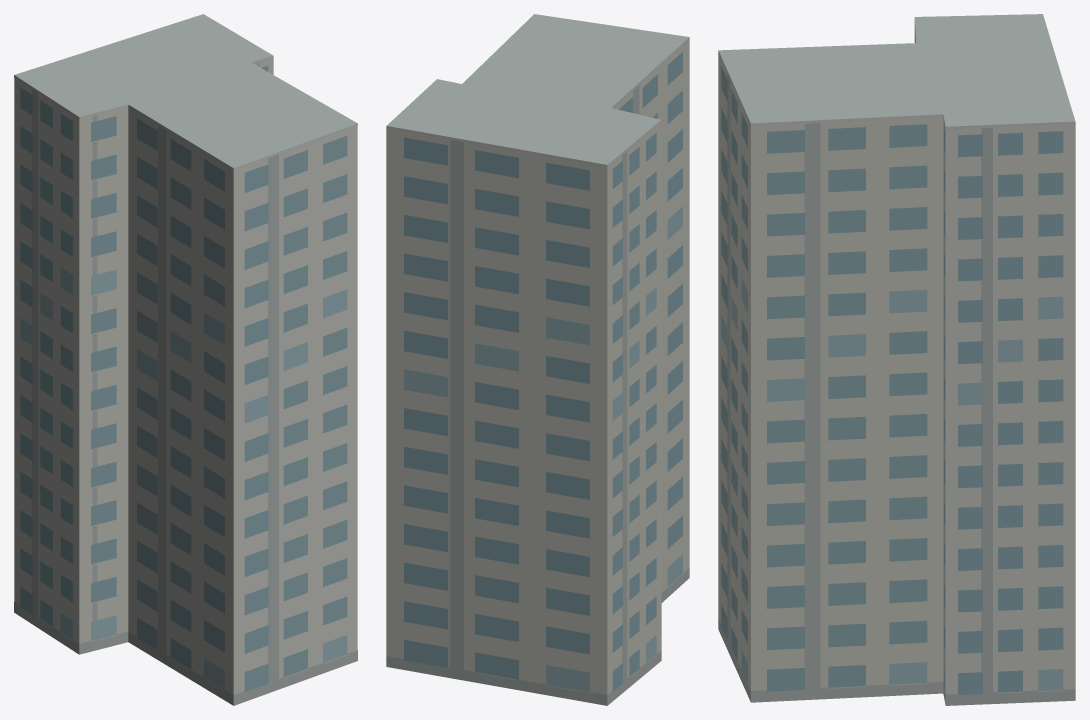
File: residential-cd171a8d-fb2b-4457-a292-0e4c784e9d90.glb
3 renders of one model, left to right at view 1: azimuth 30°, elevation 25°; view 2: azimuth 150°, elevation 25°; view 3: azimuth 270°, elevation 25°, orthographic. The views are drawn at different scales.
Visible parts, largest first — view 1: residential-cd171a8d-fb2b-4457-a292-0e4c784e9d90.tmp; view 2: residential-cd171a8d-fb2b-4457-a292-0e4c784e9d90.tmp; view 3: residential-cd171a8d-fb2b-4457-a292-0e4c784e9d90.tmp.
Boxes of the visible parts, x1,y1,x2,y2 form: residential-cd171a8d-fb2b-4457-a292-0e4c784e9d90.tmp: (14, 14, 357, 705); residential-cd171a8d-fb2b-4457-a292-0e4c784e9d90.tmp: (386, 14, 689, 705); residential-cd171a8d-fb2b-4457-a292-0e4c784e9d90.tmp: (718, 14, 1075, 705).
Size of the model in its own units: 20.46 by 49 by 27.39.
